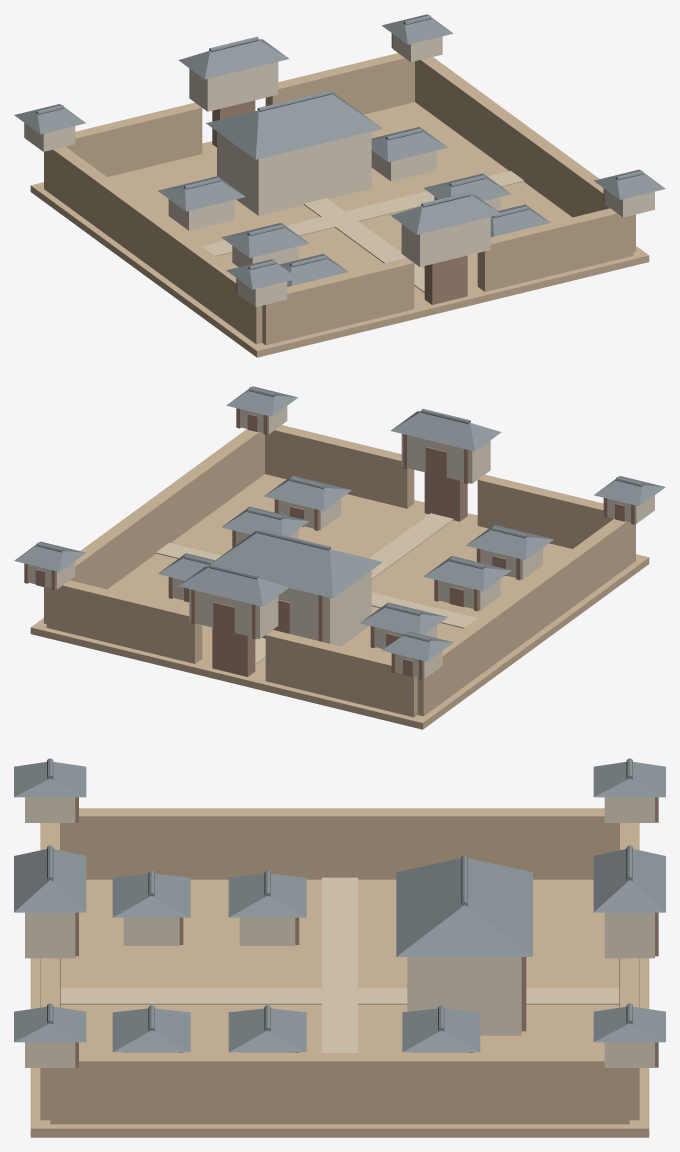
File: city-commandery.glb
3 views of the same model, one above another, from view 1: azimuth 30°, elevation 25°; view 2: azimuth 150°, elevation 25°; view 3: azimuth 270°, elevation 25° (orthographic). The views are drawn at different scales.
Bounding box in the file's own units: 11.7 × 2.89 × 11.7.
